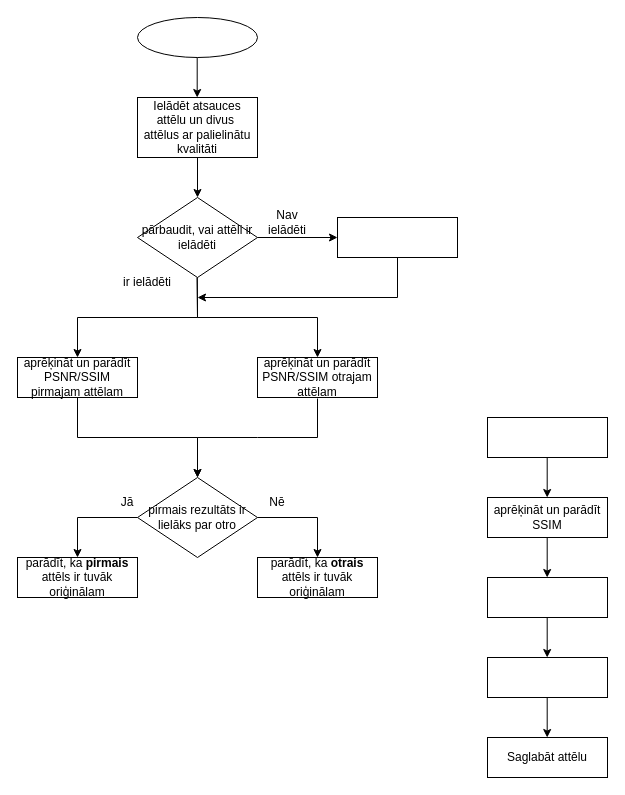
This 625x795 diagram has some shape labels left out. The centre of each missing label's shape, as x and y in pixels:
"aprēķināt un parādīt PSNR" goes at (547,437).
"begin" goes at (197,37).
"Ielādēt attēlus" goes at (397,237).
"pazemināt iestatījumu kvalitāti" goes at (547,597).
"Samainīt attēla izmēru" goes at (547,677).
